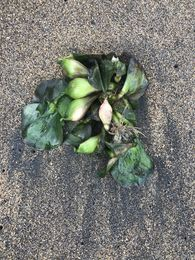water_hyacinth: (19, 52, 156, 189)
